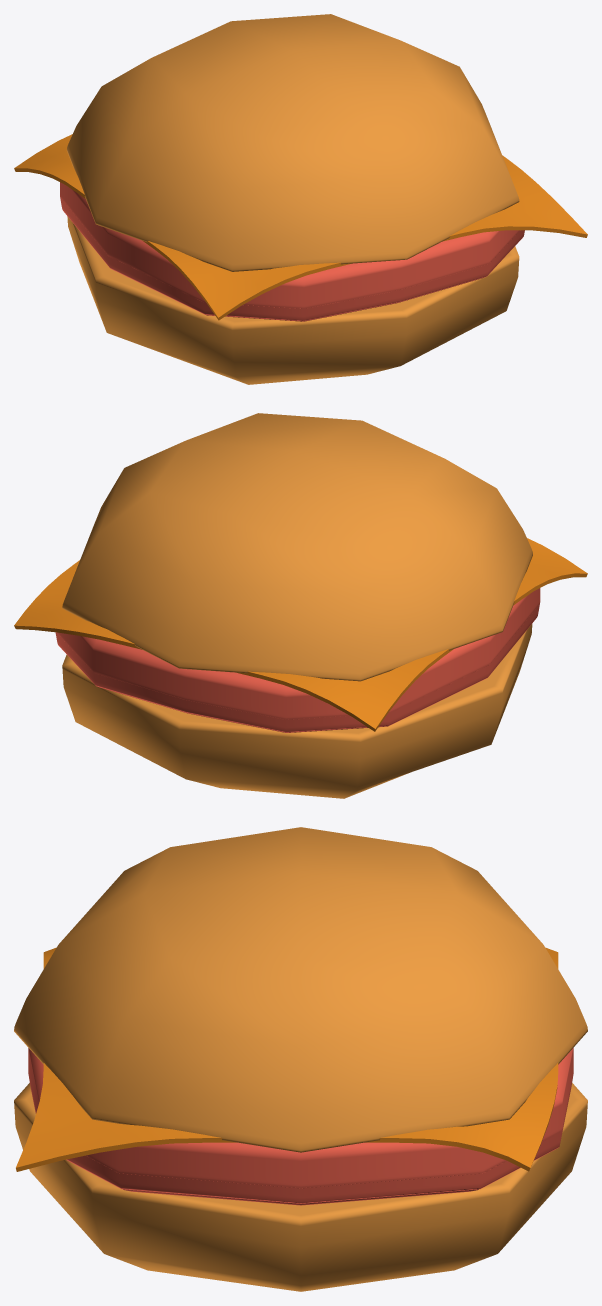
The model's file is hamburger.glb.
The picture shows the model from 3 angles, top to bottom: view 1: azimuth 30°, elevation 25°; view 2: azimuth 150°, elevation 25°; view 3: azimuth 270°, elevation 25°; orthographic projection. The views are drawn at different scales.
Visible parts, largest first — view 1: Cube.002, Cube, Cube.001, Plane; view 2: Cube.002, Cube, Cube.001, Plane; view 3: Cube.002, Cube, Cube.001, Plane.
Boxes of the visible parts, x1,y1,x2,y2 form: Cube.002: [67, 14, 519, 271]; Cube: [67, 216, 519, 384]; Cube.001: [60, 182, 524, 321]; Plane: [14, 134, 587, 320]; Cube.002: [62, 413, 532, 681]; Cube: [62, 624, 532, 798]; Cube.001: [55, 588, 540, 732]; Plane: [14, 538, 587, 731]; Cube.002: [14, 827, 587, 1152]; Cube: [14, 1083, 587, 1291]; Cube.001: [28, 1048, 573, 1205]; Plane: [16, 947, 558, 1171].
Bounding box in the file's own units: 12.85 × 8.75 × 12.85.
